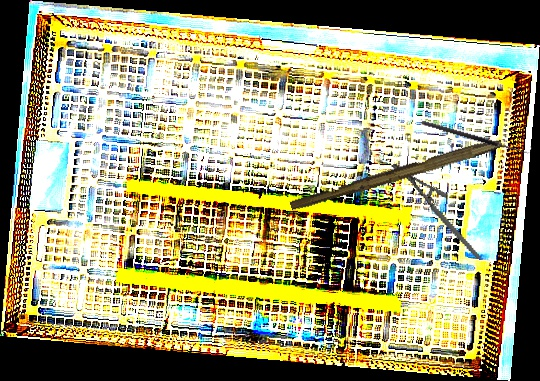Hook Surgical: (420, 114, 533, 157)
Needle Holder: (390, 147, 482, 276)
Scalpel Handle: (288, 132, 504, 216)
